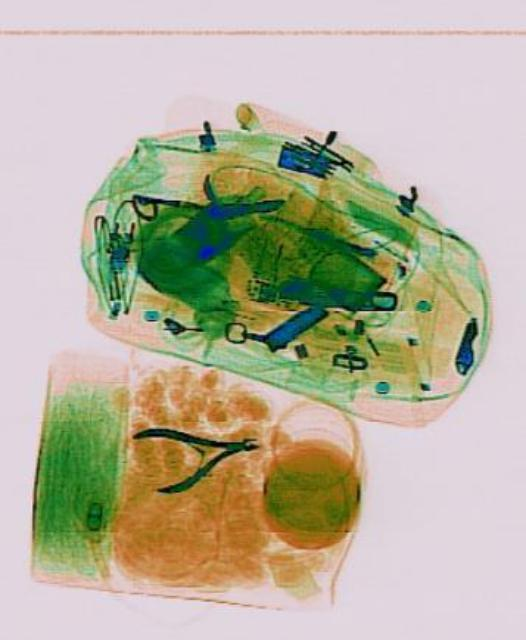Pliers: (127, 406, 262, 496)
